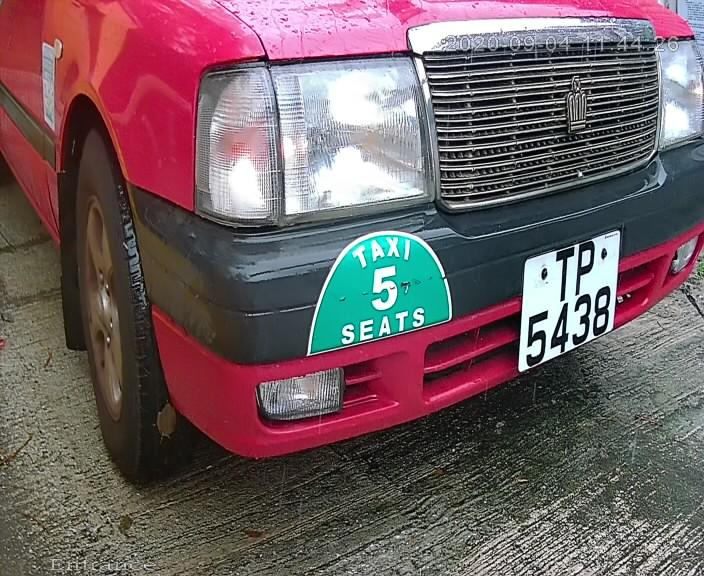Car: (38, 3, 704, 497)
License Plate: (506, 219, 632, 393)
